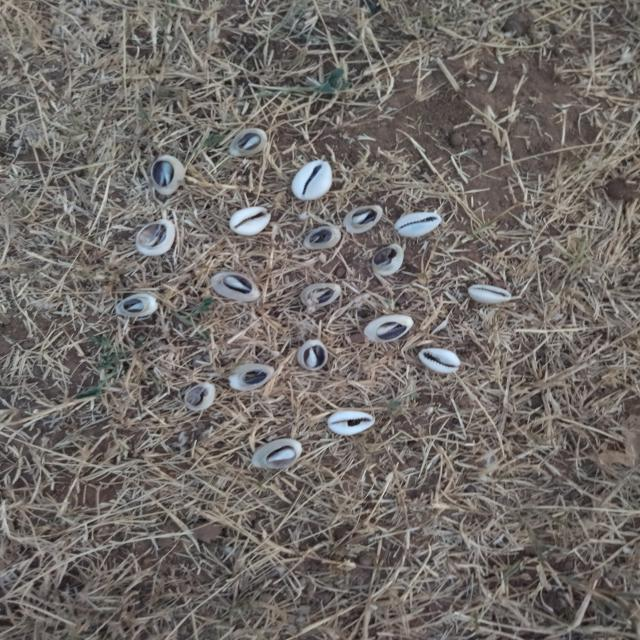facedown: (248, 432, 306, 471), (132, 215, 180, 259), (360, 309, 417, 346), (207, 266, 262, 304), (146, 152, 189, 196), (112, 288, 162, 322), (226, 360, 278, 392), (343, 199, 386, 236), (228, 124, 268, 161), (367, 242, 407, 278), (298, 278, 344, 309), (180, 379, 220, 414), (293, 338, 330, 372), (302, 224, 343, 252)
faceup: (290, 156, 334, 203), (222, 202, 275, 239), (394, 205, 442, 240), (326, 406, 377, 436), (417, 343, 463, 376), (468, 281, 513, 308)
